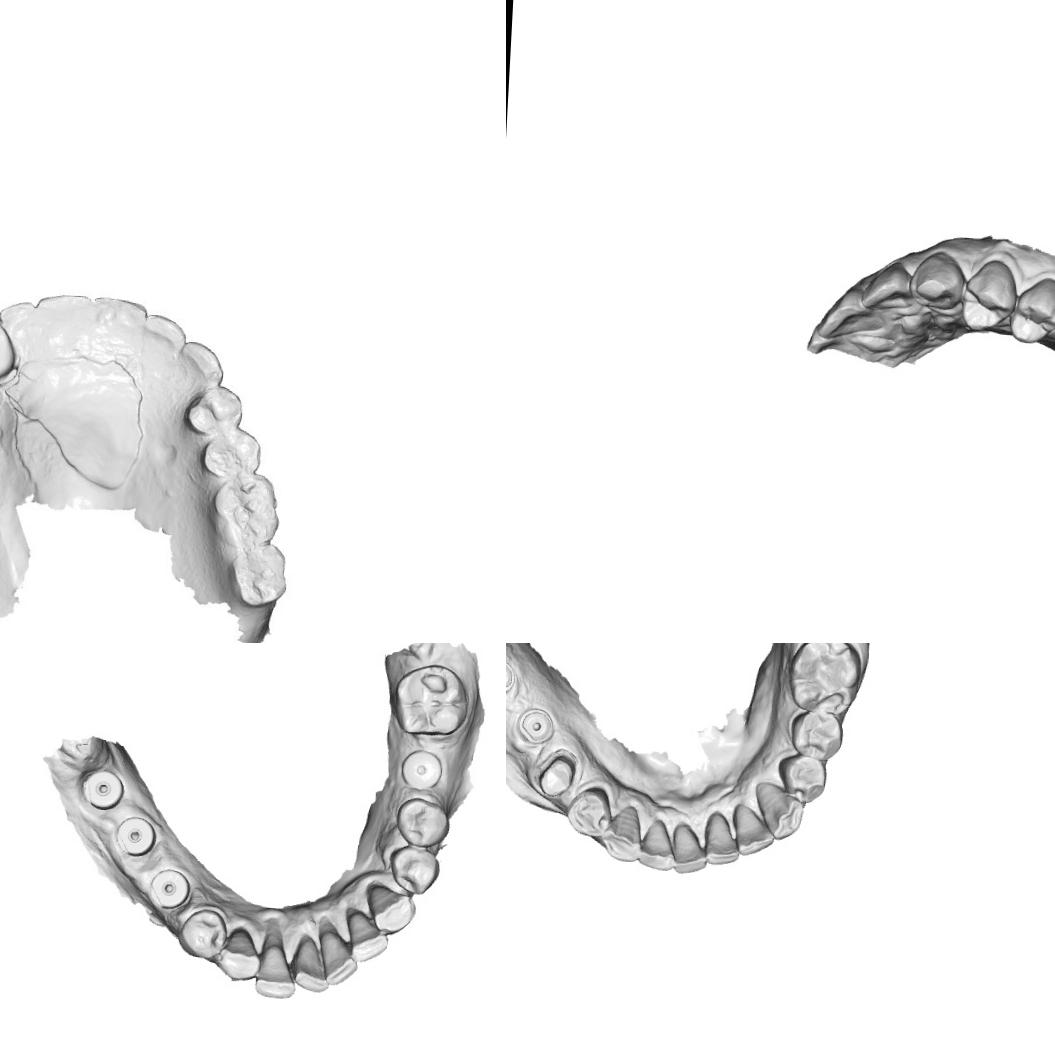canine: (908, 247, 968, 311), (752, 780, 805, 840), (364, 878, 418, 936), (214, 925, 264, 982), (598, 803, 642, 862), (176, 340, 224, 389), (0, 311, 14, 379)
crown: (532, 746, 580, 798)
implant: (78, 766, 126, 812), (398, 746, 445, 792), (112, 812, 158, 858), (145, 866, 192, 910), (518, 707, 553, 742)
implant_minus: (506, 656, 516, 696)
incisor: (813, 286, 887, 342), (40, 289, 102, 347), (92, 293, 151, 347), (858, 258, 916, 312), (252, 936, 298, 1002), (315, 922, 361, 988), (342, 903, 390, 964), (288, 932, 334, 994), (730, 801, 776, 857), (701, 810, 742, 866), (0, 298, 44, 350), (637, 818, 677, 872), (140, 312, 188, 356), (671, 822, 710, 876)
molar: (390, 660, 470, 740), (211, 472, 280, 554), (786, 643, 863, 716), (229, 542, 288, 602)
premolar: (958, 256, 1020, 336), (1008, 272, 1055, 347), (393, 793, 451, 850), (184, 382, 244, 436), (388, 841, 442, 897), (201, 429, 262, 478), (176, 906, 229, 962), (789, 709, 844, 761), (562, 785, 613, 840), (776, 752, 829, 804)
